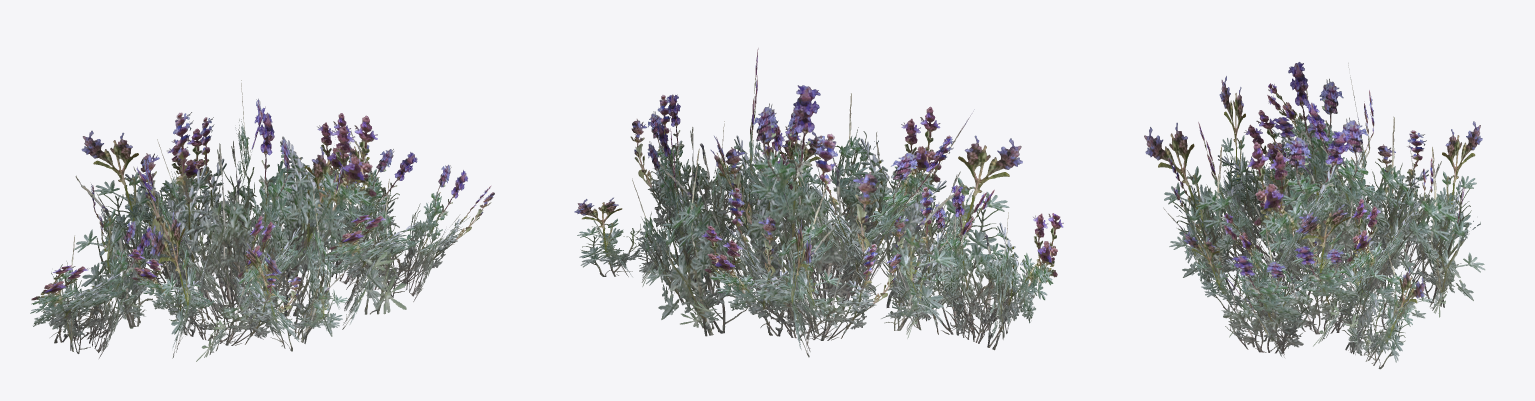
Rendered from proc_desert_sage_01.FBX.
3 views of the same model, side by side, from view 1: azimuth 30°, elevation 25°; view 2: azimuth 150°, elevation 25°; view 3: azimuth 270°, elevation 25° (orthographic). The views are drawn at different scales.
Visible parts, largest first — view 1: proc_desert_sage_01; view 2: proc_desert_sage_01; view 3: proc_desert_sage_01.
Boxes of the visible parts, left/top/right/bottom form: proc_desert_sage_01: left=30, top=80, right=494, bottom=361; proc_desert_sage_01: left=574, top=48, right=1063, bottom=357; proc_desert_sage_01: left=1144, top=62, right=1485, bottom=369.
Size of the model in its own units: 2.45 by 1.81 by 0.9785.
Materials: 1 (1 with a texture image).
